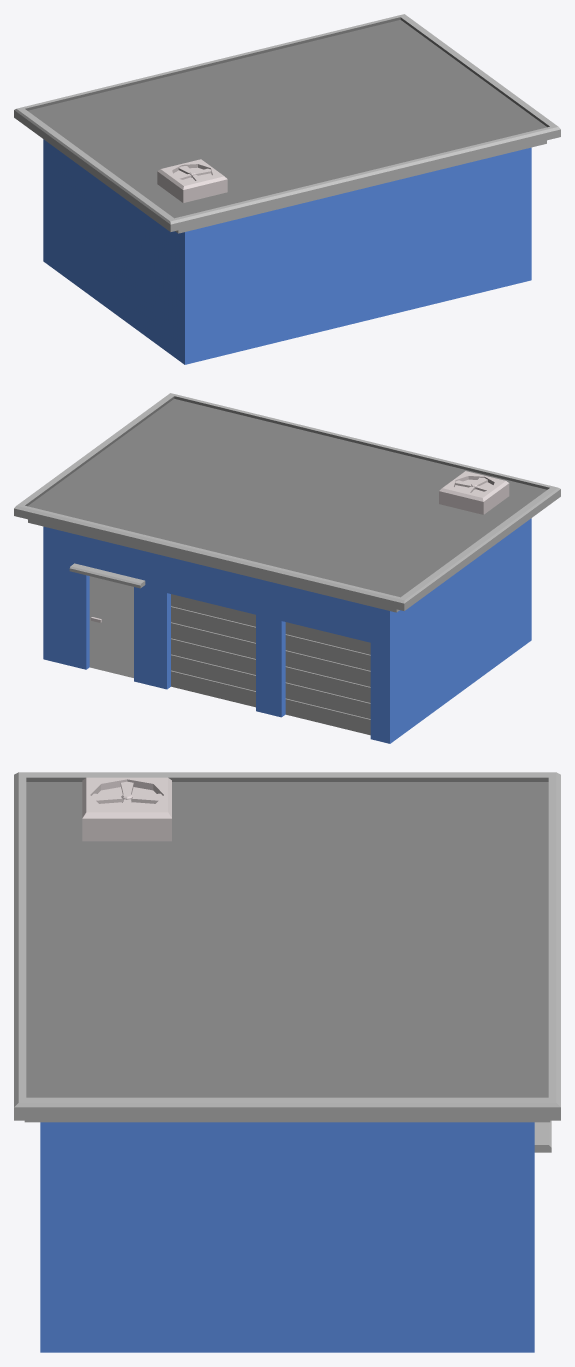
File: Storage_01.fbx
3 views of the same model, one above another, from view 1: azimuth 30°, elevation 25°; view 2: azimuth 150°, elevation 25°; view 3: azimuth 270°, elevation 25° (orthographic). The views are drawn at different scales.
Visible parts, largest first — view 1: Storage; view 2: Storage; view 3: Storage.
Boxes of the visible parts, x1,y1,x2,y2 form: Storage: (14, 14, 560, 364); Storage: (14, 393, 560, 743); Storage: (14, 772, 560, 1352).
Bounding box in the file's own units: 446 × 181 × 310.
